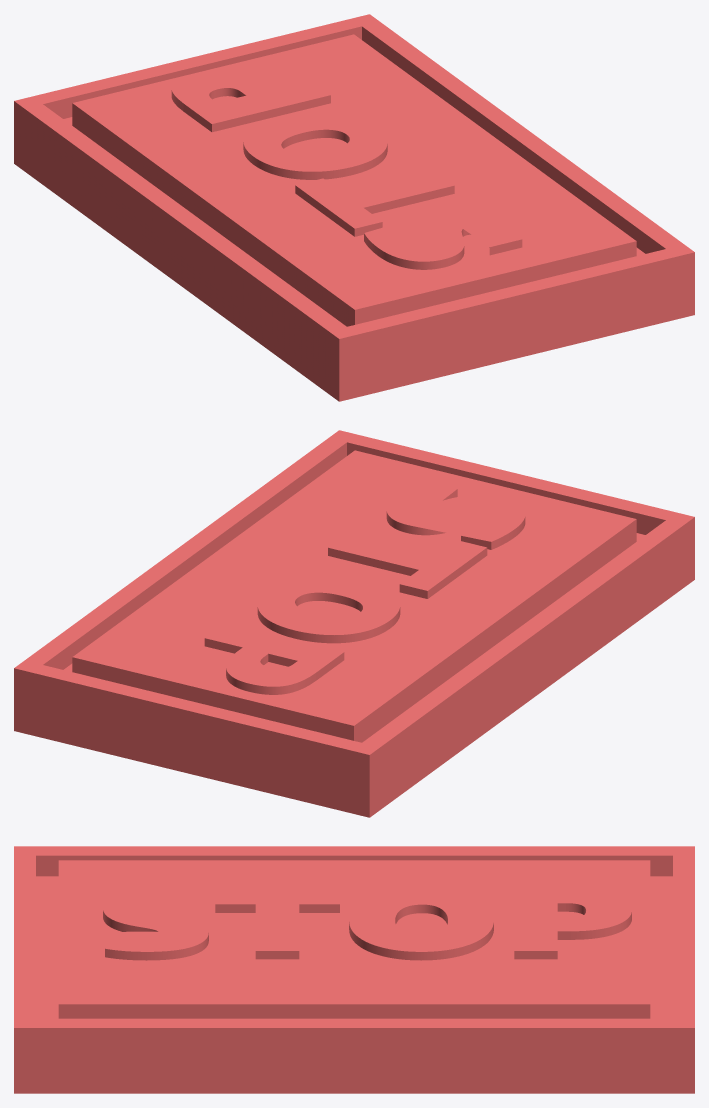
Rendered from StopBlock.fbx.
3 views of the same model, one above another, from view 1: azimuth 30°, elevation 25°; view 2: azimuth 150°, elevation 25°; view 3: azimuth 270°, elevation 25° (orthographic). The views are drawn at different scales.
Parts seen in each view (by area): view 1: MoText_1; view 2: MoText_1; view 3: MoText_1.
Part boxes in pixels (x1,y1,x2,y2): MoText_1: (14,14,694,401); MoText_1: (14,430,694,817); MoText_1: (14,846,694,1093).
Bounding box in the file's own units: 200 × 40.53 × 317.
